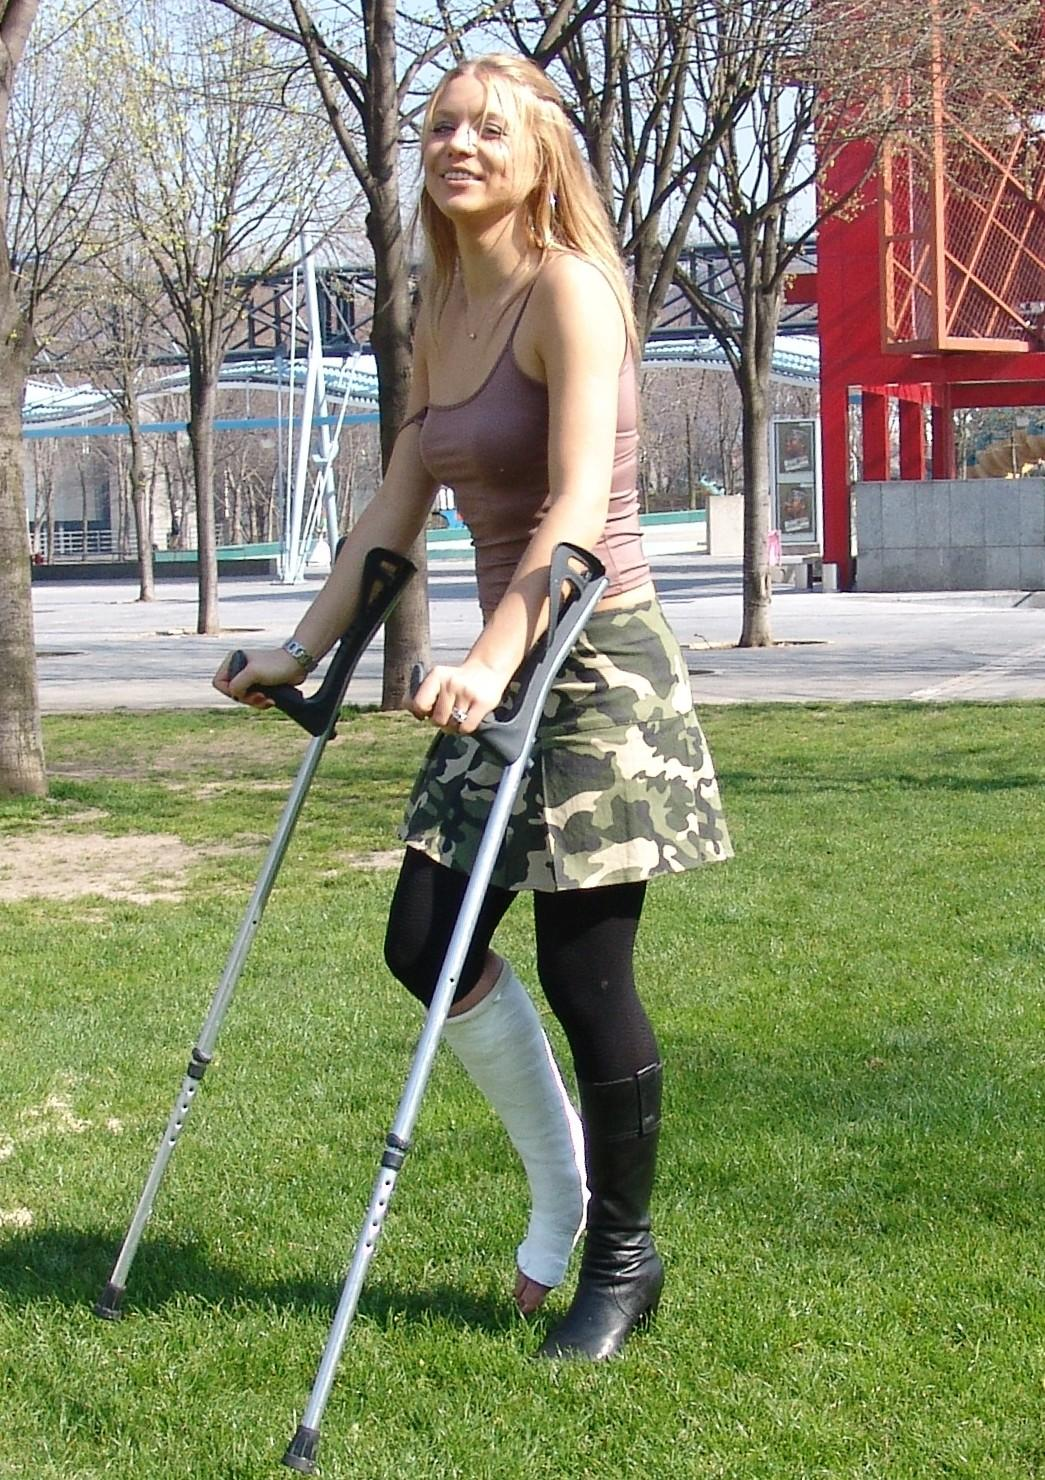crutches: (93, 53, 735, 1475)
